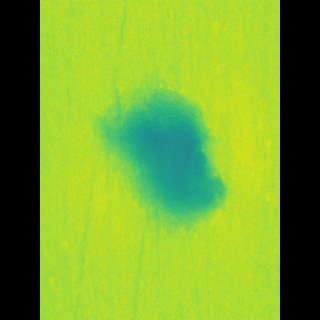Loch: (114, 84, 215, 231)
